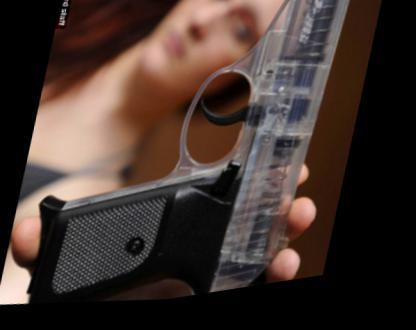pistol: (21, 0, 366, 321)
